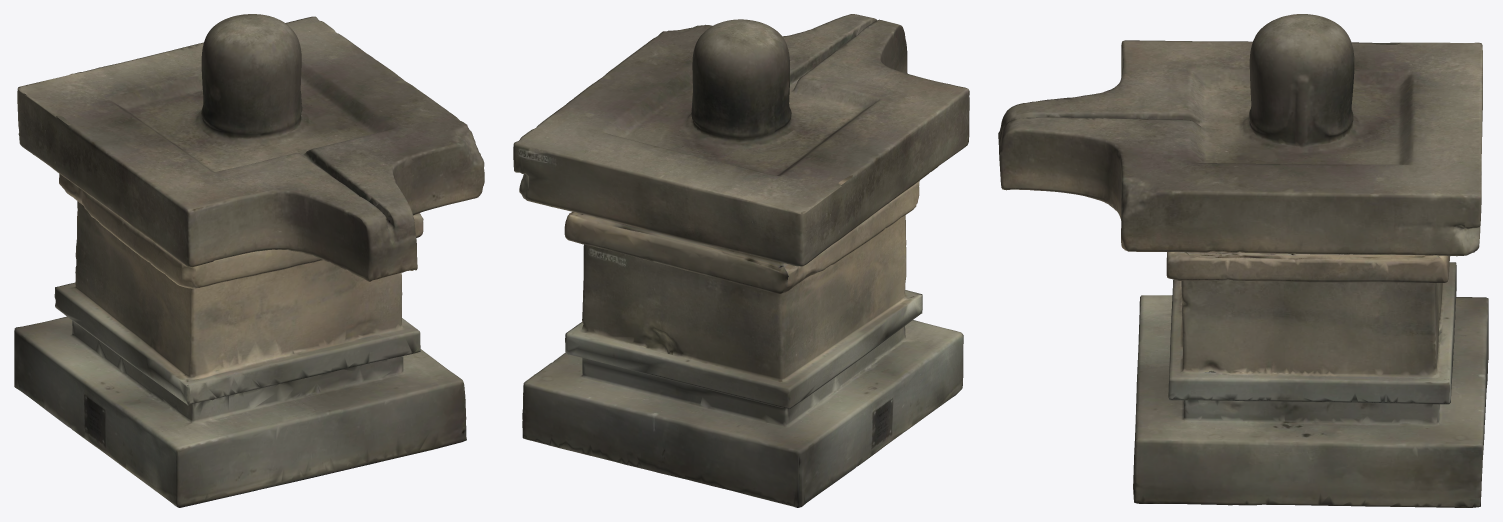
File: MysonMuseum_lingavayoni_final.glb
The picture shows the model from 3 angles, left to right: view 1: azimuth 30°, elevation 25°; view 2: azimuth 150°, elevation 25°; view 3: azimuth 270°, elevation 25°; orthographic projection. The views are drawn at different scales.
Size of the model in its own units: 0.8195 by 1.02 by 1.1.
1 material, 1 textured.
